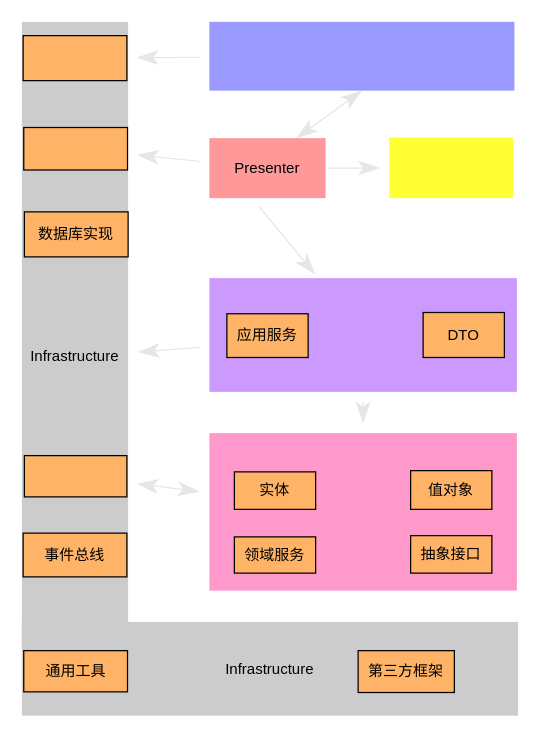
The diagram is 539 pixels wide and 736 high, and some of its shapes have lost their labels. Each missing label, with the box of its shape:
Application: (209, 278, 516, 391)
Domain: (209, 432, 516, 590)
Model: (389, 137, 512, 198)
View: (209, 21, 514, 90)
基础服务: (22, 34, 127, 81)
缓存实现: (22, 126, 128, 170)
网络请求: (23, 454, 127, 497)
